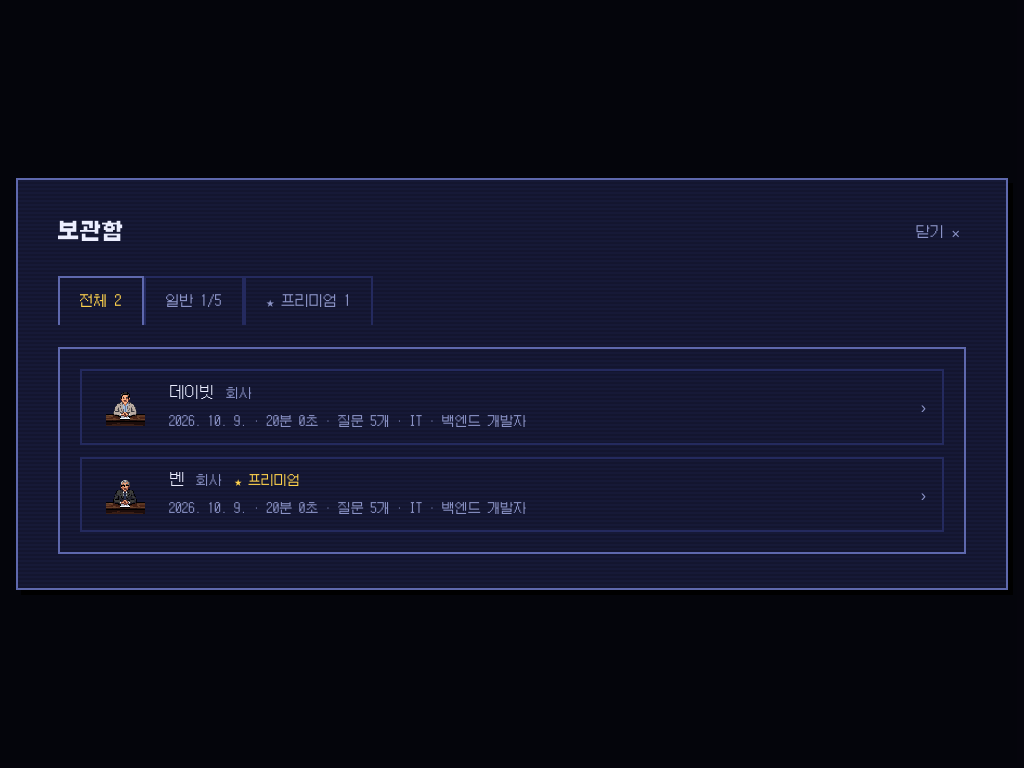
ArchiveModal — 목록 › 일반 탭은 일반만, 프리미엄 탭은 프리미엄만 보여 준다
Expected: the number of buttons with test id "archive-row" is 2, [80,369,944,445]; [80,457,944,532]
Click the button with test id "archive-tab" showing "일반 1/5" at (194, 300), box [144,276,244,325]
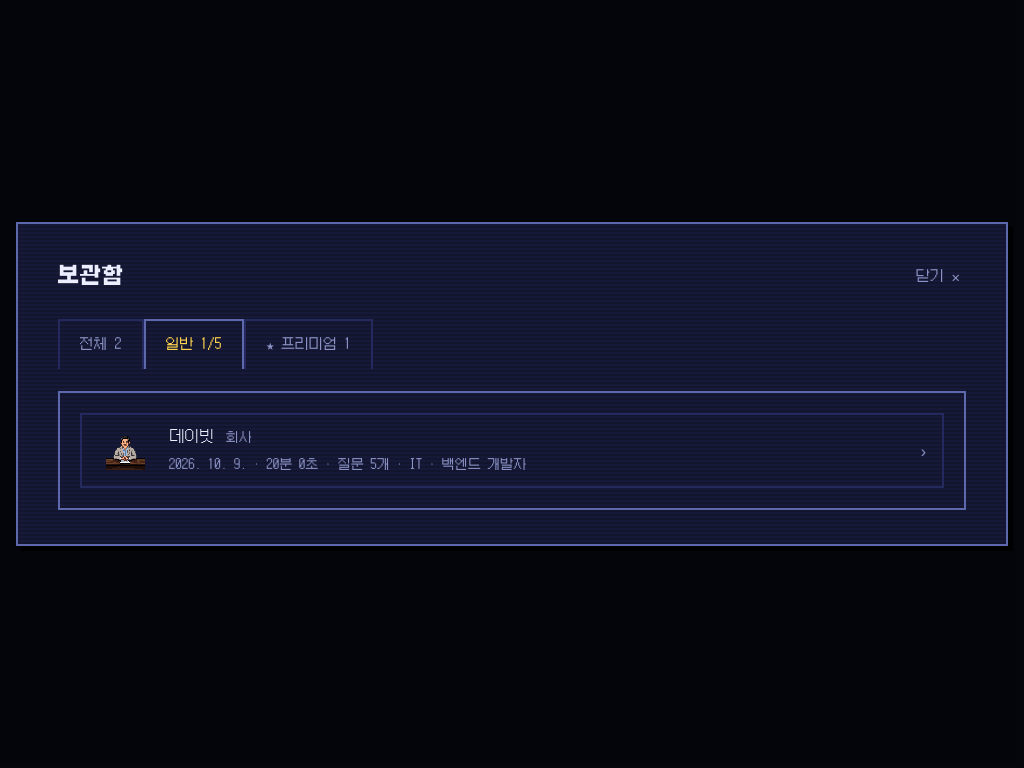
Now the number of buttons with test id "archive-row" is 1, box [80,413,944,488]
Now the text with test id "row-premium" is gone
Click the button with test id "archive-tab" showing "★ 프리미엄 1" at (309, 344), box [244,319,373,369]
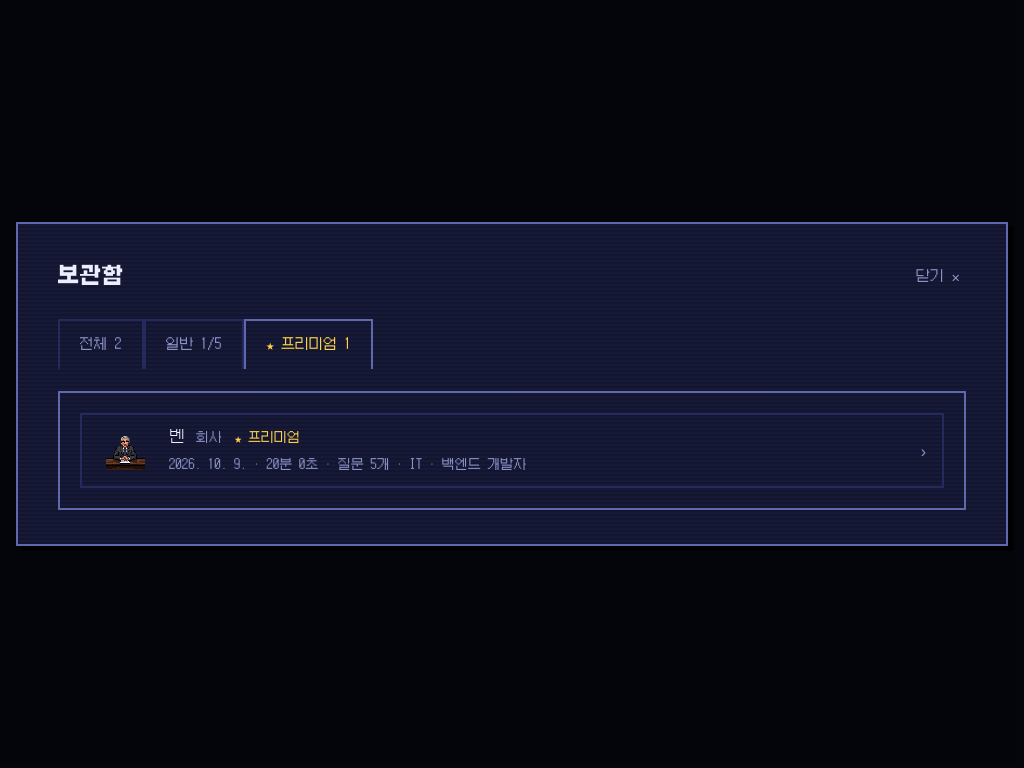
Now the number of buttons with test id "archive-row" is 1, box [80,413,944,488]
Now the text "★ 프리미엄" is shown, box [234,426,300,449]
